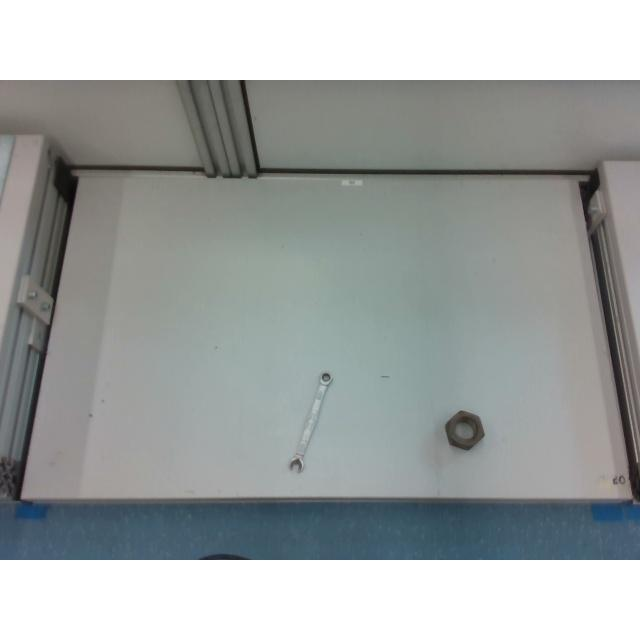M30: (443, 409, 485, 451)
Wrench: (289, 374, 335, 474)
